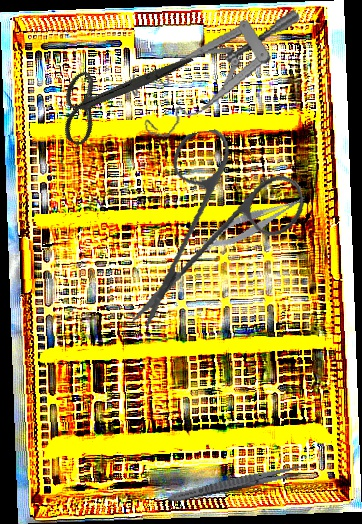Dressing Forceps: (166, 460, 308, 507)
Iris Scissors: (102, 116, 320, 329), (43, 10, 195, 175)
Micro Scissor: (197, 191, 313, 255)
Speculum: (121, 8, 317, 142)
